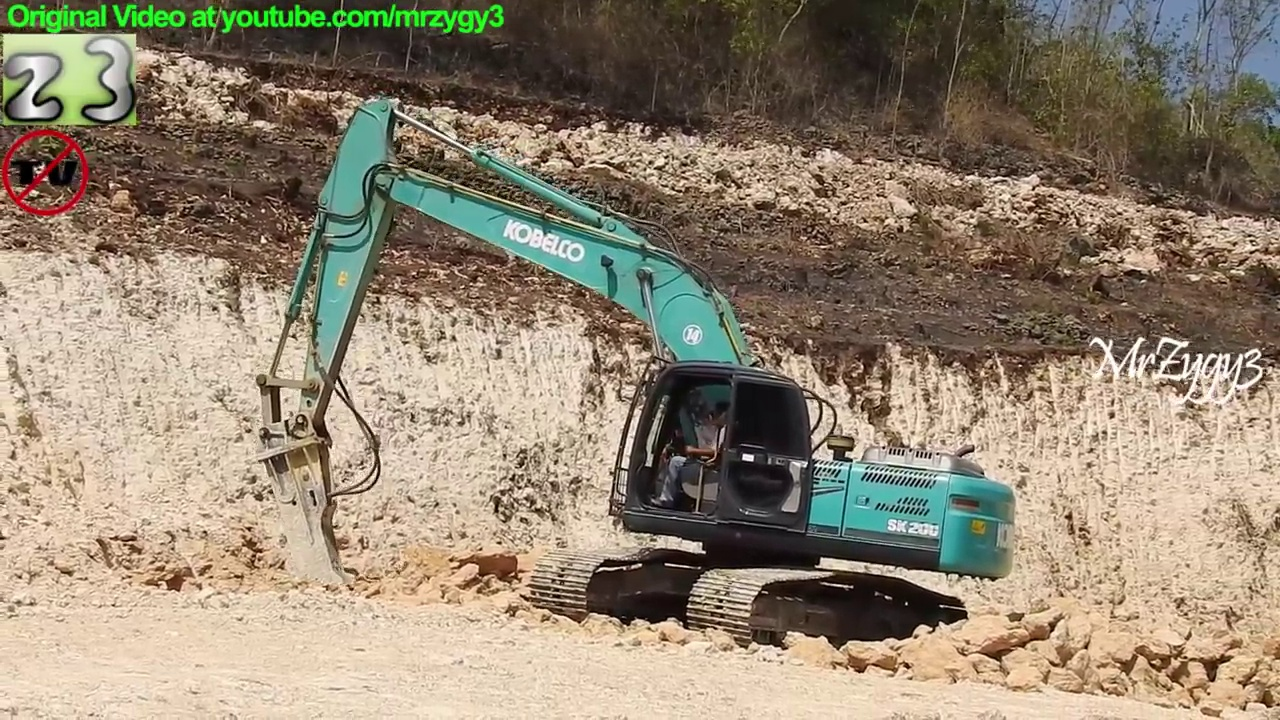excavator breaker: (248, 92, 1026, 674)
